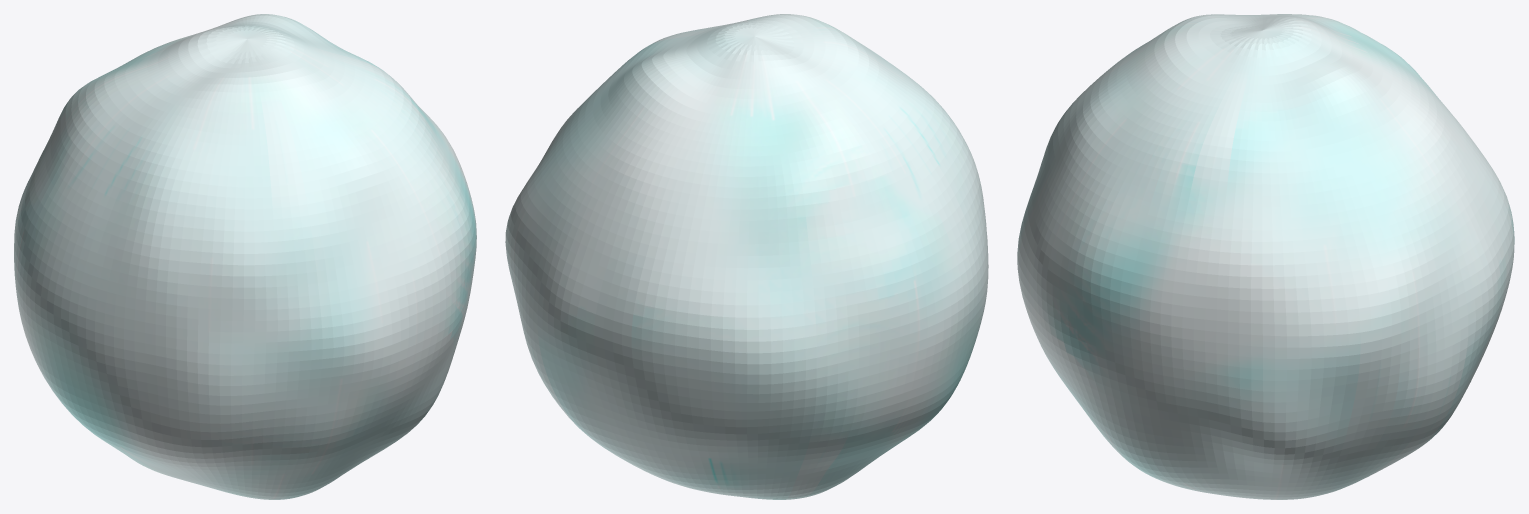
Rendered from snowball.fbx.
The picture shows the model from 3 angles, left to right: view 1: azimuth 30°, elevation 25°; view 2: azimuth 150°, elevation 25°; view 3: azimuth 270°, elevation 25°; orthographic projection. The views are drawn at different scales.
Visible parts, largest first — view 1: Sphere.001; view 2: Sphere.001; view 3: Sphere.001.
Boxes of the visible parts, x1,y1,x2,y2 form: Sphere.001: (14,14,476,499); Sphere.001: (505,14,988,499); Sphere.001: (1017,14,1514,499).
Bounding box in the file's own units: 205 × 206 × 209.
Materials: 1 (1 with a texture image).
